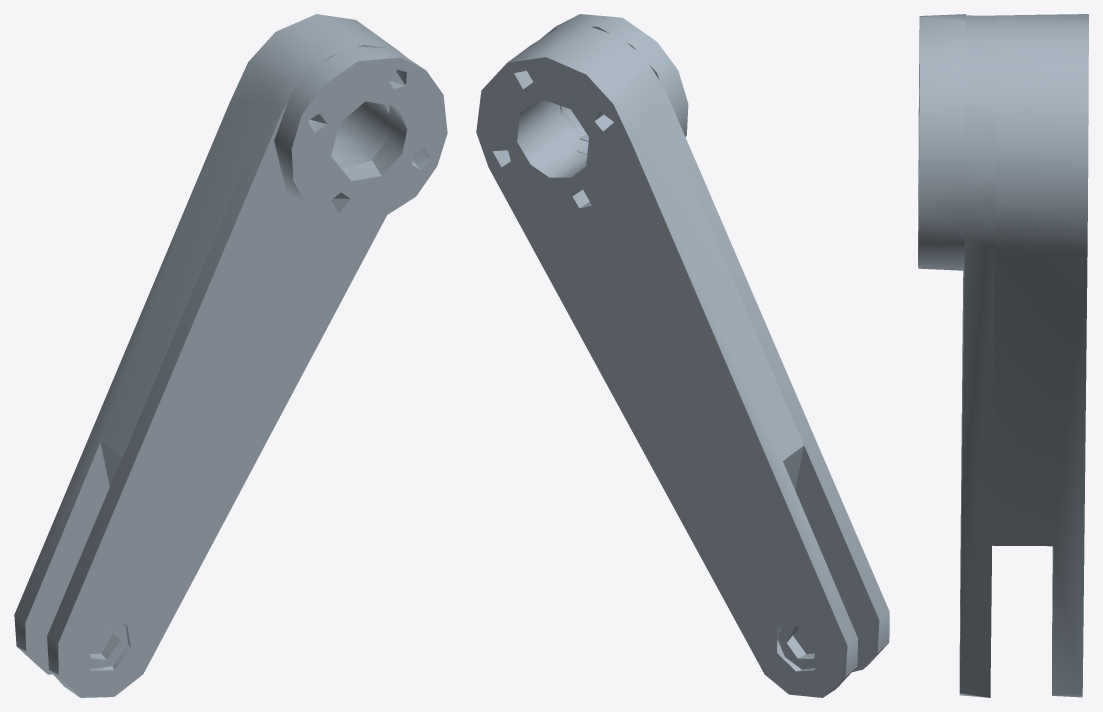
3 renders of one model, left to right at view 1: azimuth 30°, elevation 25°; view 2: azimuth 150°, elevation 25°; view 3: azimuth 270°, elevation 25°, orthographic. The views are drawn at different scales.
Visible parts, largest first — view 1: tmp_export_fl_link4; view 2: tmp_export_fl_link4; view 3: tmp_export_fl_link4.
Boxes of the visible parts, x1=… form: tmp_export_fl_link4: x1=14, y1=14, x2=447, y2=697; tmp_export_fl_link4: x1=476, y1=14, x2=889, y2=697; tmp_export_fl_link4: x1=918, y1=14, x2=1088, y2=697.
Bounding box in the file's own units: 0.0601 × 0.0167 × 0.0902.
